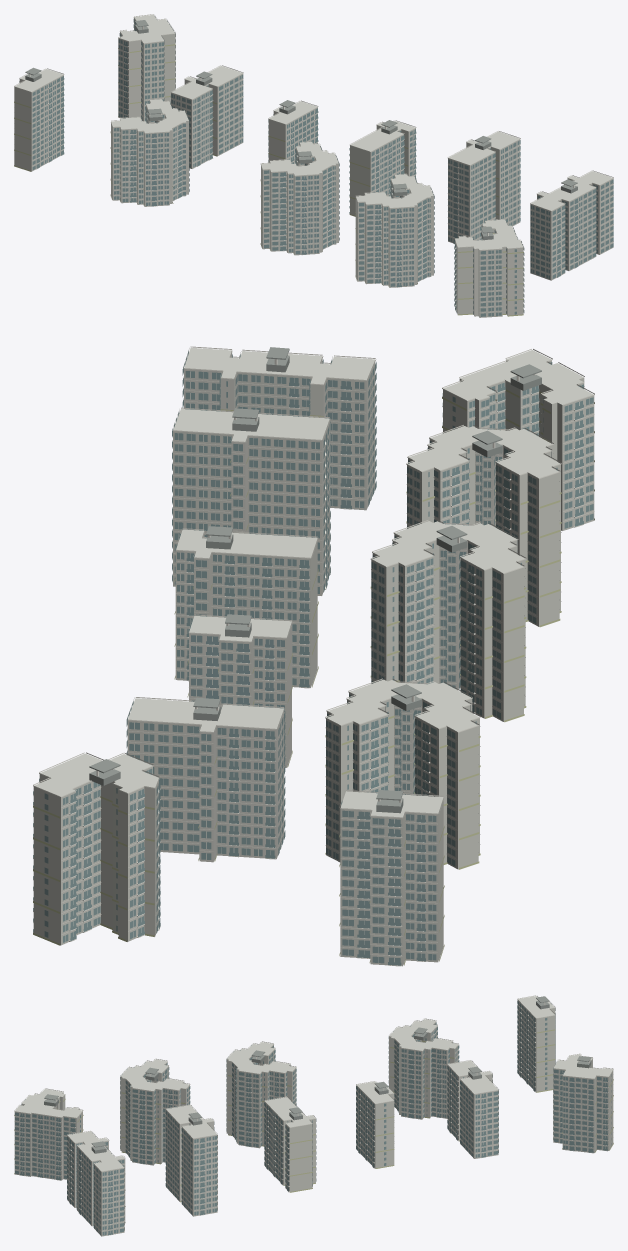
Rendered from representative-a13410010.glb.
The picture shows the model from 3 angles, top to bottom: view 1: azimuth 30°, elevation 25°; view 2: azimuth 150°, elevation 25°; view 3: azimuth 270°, elevation 25°; orthographic projection. The views are drawn at different scales.
Parts seen in each view (by area): view 1: A13410010_wall001, A13410010_glass001, A13410010_trim001, A13410010_roof001, A13410010_accent001; view 2: A13410010_wall001, A13410010_glass001, A13410010_trim001, A13410010_roof001, A13410010_accent001; view 3: A13410010_wall001, A13410010_glass001, A13410010_trim001, A13410010_roof001, A13410010_accent001.
Boxes of the visible parts, left/top/right/bottom form: A13410010_wall001: left=14, top=14, right=613, bottom=317; A13410010_glass001: left=19, top=17, right=613, bottom=316; A13410010_trim001: left=14, top=14, right=613, bottom=315; A13410010_roof001: left=25, top=20, right=577, bottom=239; A13410010_accent001: left=14, top=44, right=523, bottom=316; A13410010_wall001: left=33, top=347, right=594, bottom=966; A13410010_glass001: left=33, top=351, right=593, bottom=965; A13410010_trim001: left=33, top=346, right=594, bottom=966; A13410010_roof001: left=89, top=347, right=541, bottom=813; A13410010_accent001: left=33, top=389, right=594, bottom=965; A13410010_wall001: left=14, top=996, right=613, bottom=1236; A13410010_glass001: left=15, top=1001, right=611, bottom=1235; A13410010_trim001: left=14, top=995, right=613, bottom=1235; A13410010_roof001: left=44, top=996, right=591, bottom=1153; A13410010_accent001: left=14, top=1029, right=613, bottom=1222.
Bounding box in the file's own units: 193 × 45.7 × 293.
